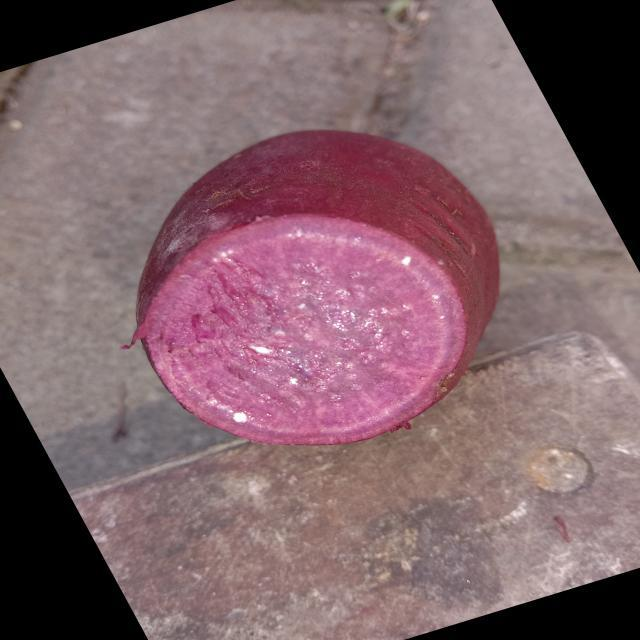Healthy Sweet Potato: (133, 215, 467, 445)
